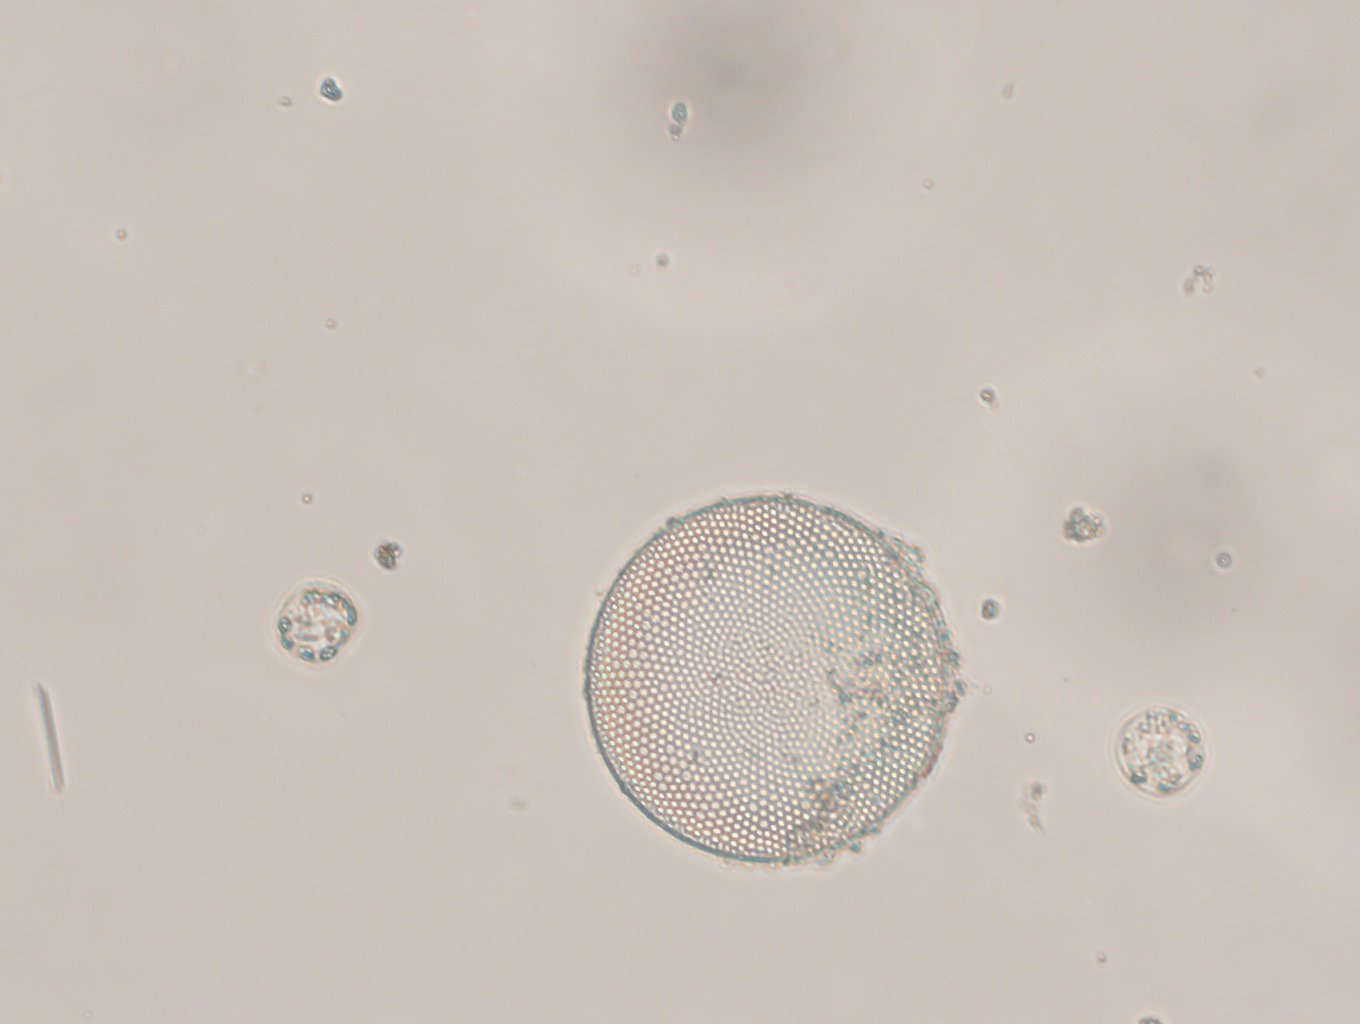coscinodiscus: (584, 492, 953, 865)
